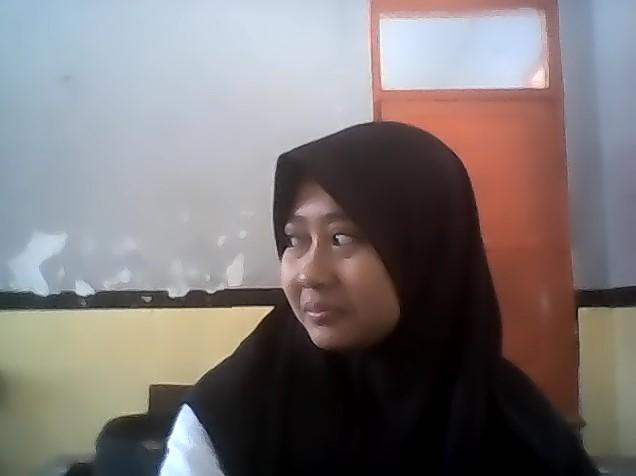cheating: (150, 108, 595, 476)
